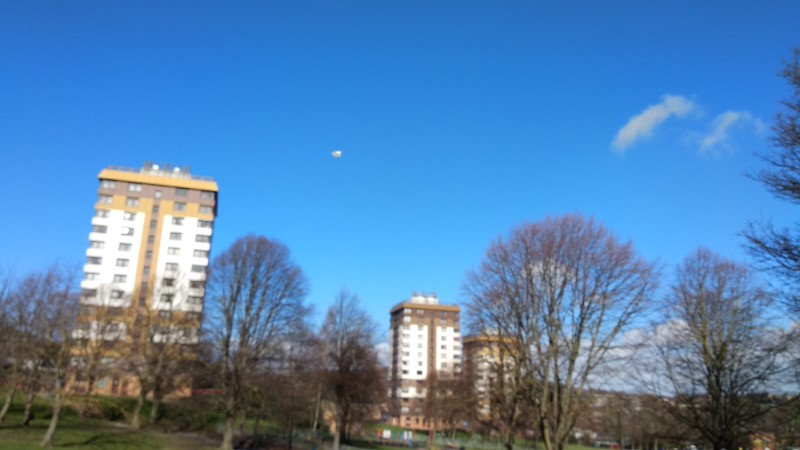drone: (329, 148, 342, 158)
